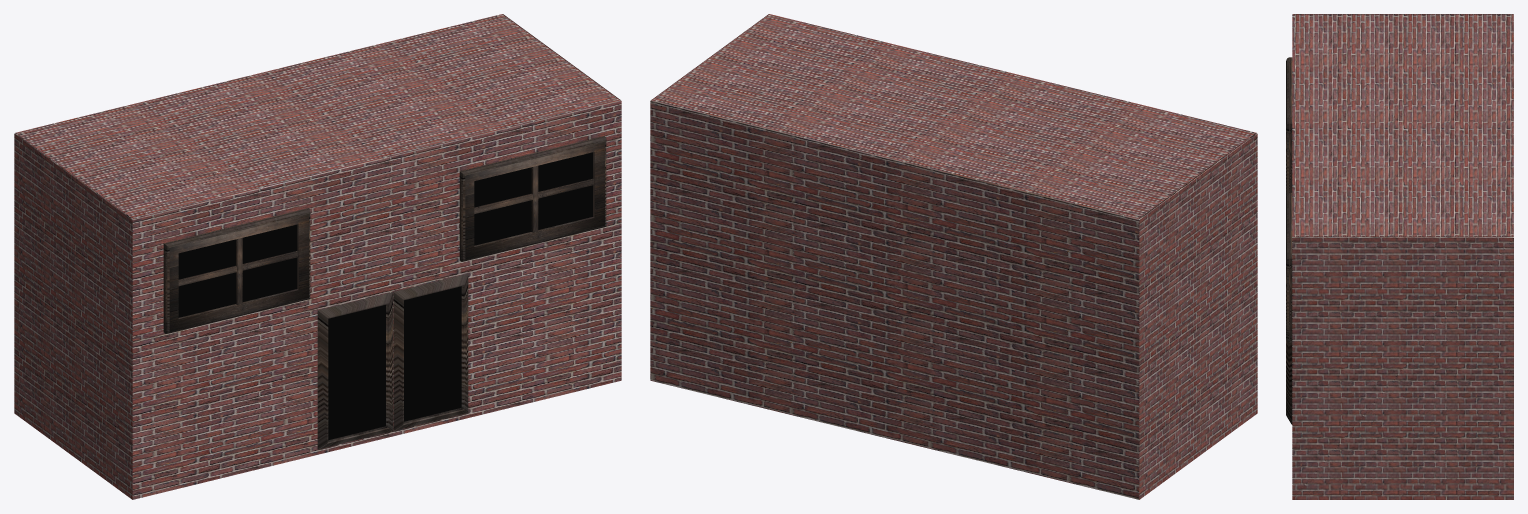
Rendered from housefinal.fbx.
3 renders of one model, left to right at view 1: azimuth 30°, elevation 25°; view 2: azimuth 150°, elevation 25°; view 3: azimuth 270°, elevation 25°, orthographic. The views are drawn at different scales.
Visible parts, largest first — view 1: pCube6, pCube9, pCube16, pCube7, pCube8, pCube15, pCube17; view 2: pCube6; view 3: pCube6, pCube16, pCube9, pCube8.
Boxes of the visible parts, bbox=[...] form: pCube6: bbox=[14, 14, 621, 499]; pCube9: bbox=[163, 208, 310, 333]; pCube16: bbox=[459, 136, 606, 261]; pCube7: bbox=[317, 292, 392, 449]; pCube8: bbox=[393, 273, 468, 430]; pCube15: bbox=[178, 251, 298, 286]; pCube17: bbox=[474, 178, 594, 213]; pCube6: bbox=[650, 14, 1257, 499]; pCube6: bbox=[1292, 14, 1513, 499]; pCube16: bbox=[1286, 192, 1296, 342]; pCube9: bbox=[1286, 57, 1292, 195]; pCube8: bbox=[1286, 339, 1292, 424].
Bounding box in the file's own units: 92.93 × 50.91 × 40.05.
